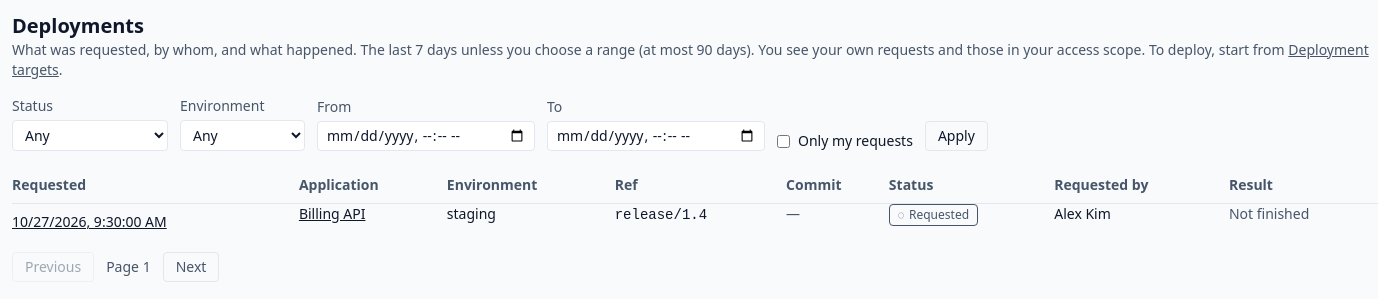
Test: DeploymentList filters › pages by cursor without a total, and goes back to page one when a filter changes
The width and height of the screenshot is (1378, 299).
expect the text "release/1.4" is shown: met, box [615, 207, 707, 223]
Step 1. Click the button "Next" → x=191, y=267, box [163, 252, 219, 282]
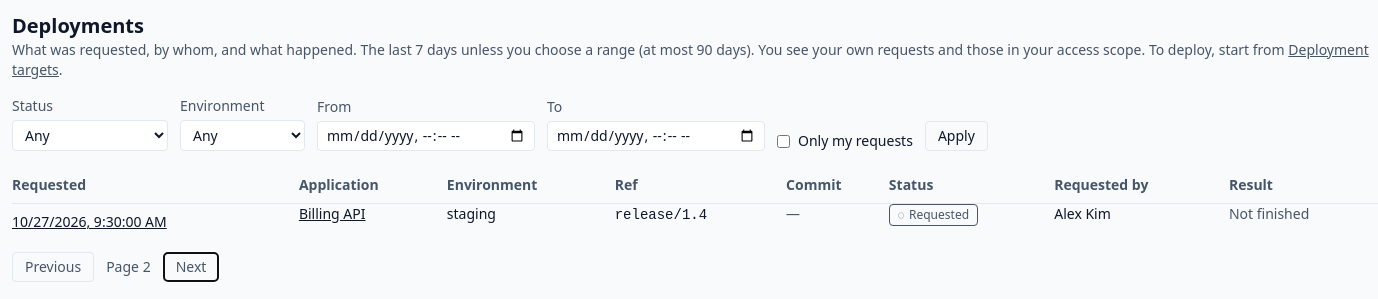
expect the text "Page 2" is shown: met, box [106, 257, 151, 277]
Step 2. Select "failed" in the dropdown labelled "Status" → x=90, y=136, box [12, 120, 168, 151]
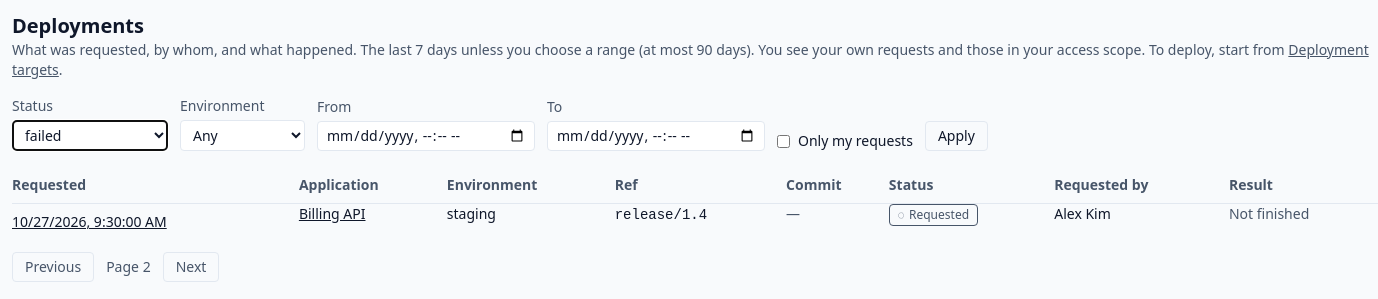
Step 3. Click the button "Apply" → x=956, y=136, box [925, 121, 988, 151]
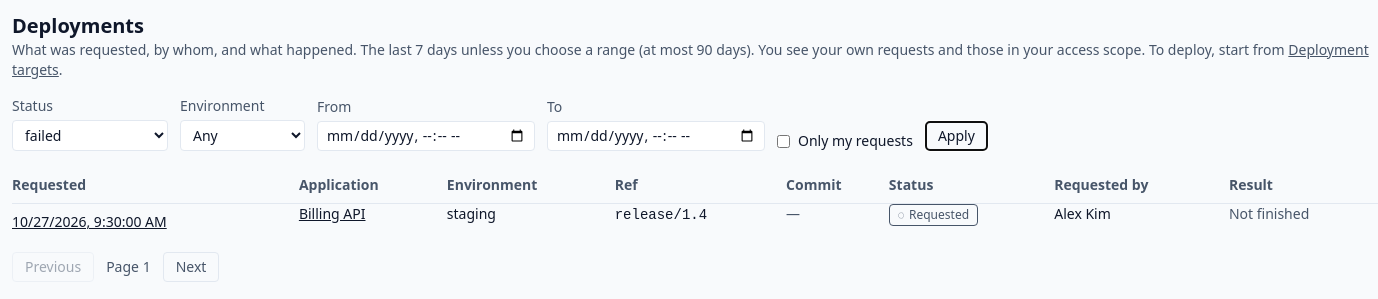
expect the text "Page 1" is shown: met, box [106, 257, 151, 277]
